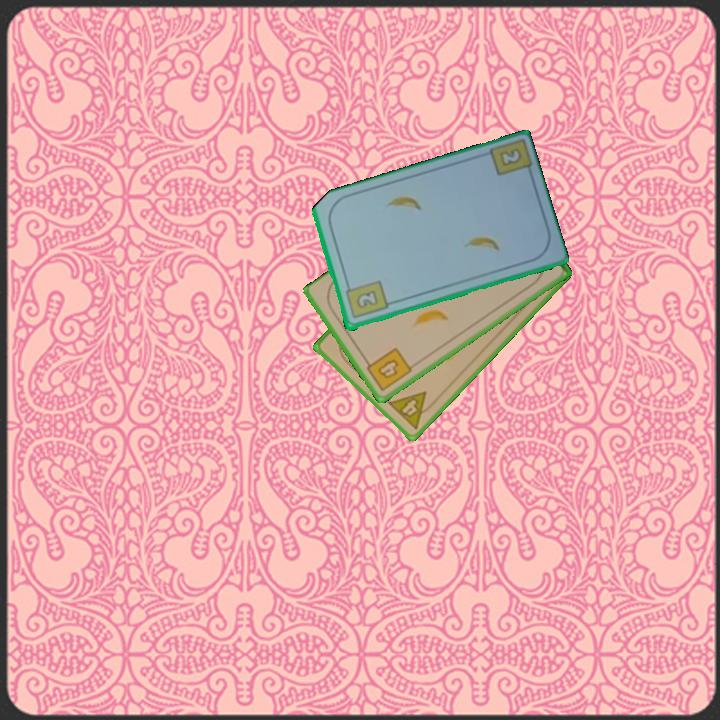2b: (342, 277, 390, 322), (496, 147, 524, 169)
4b: (361, 344, 415, 394)
4p: (384, 388, 439, 432)
